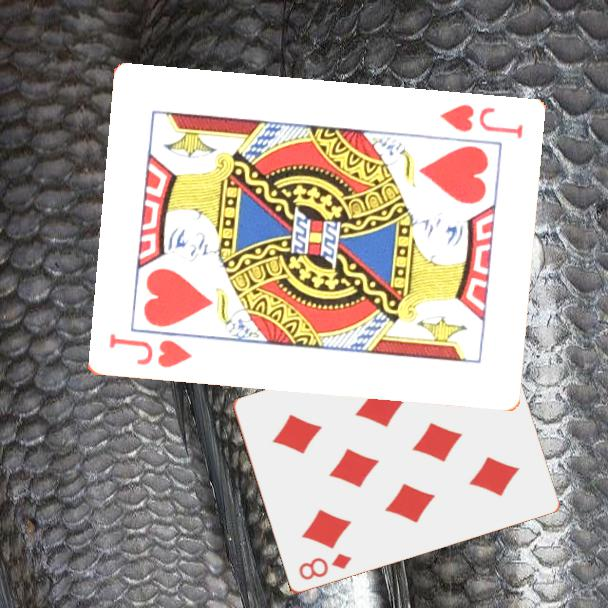d08: (295, 550, 354, 583)
h11: (105, 330, 195, 371), (436, 101, 525, 142)
